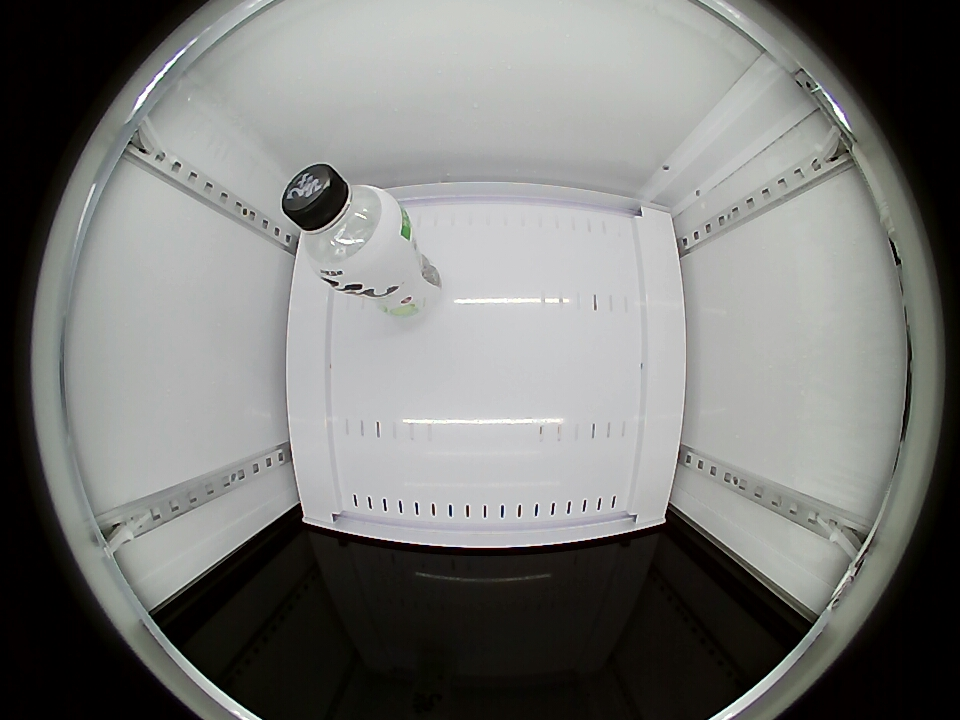yuanqishui: (281, 164, 409, 289)
